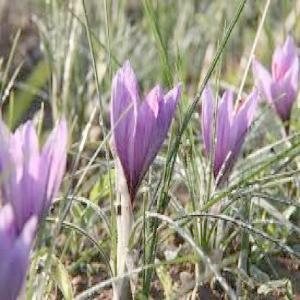Saffron: (111, 63, 182, 212), (0, 120, 67, 250), (200, 85, 255, 190), (256, 35, 300, 140)
